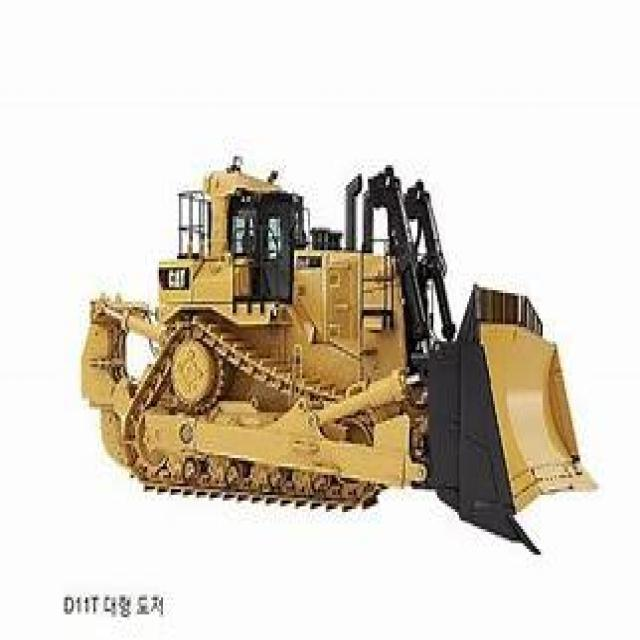Bulldozer: (74, 145, 598, 552)
